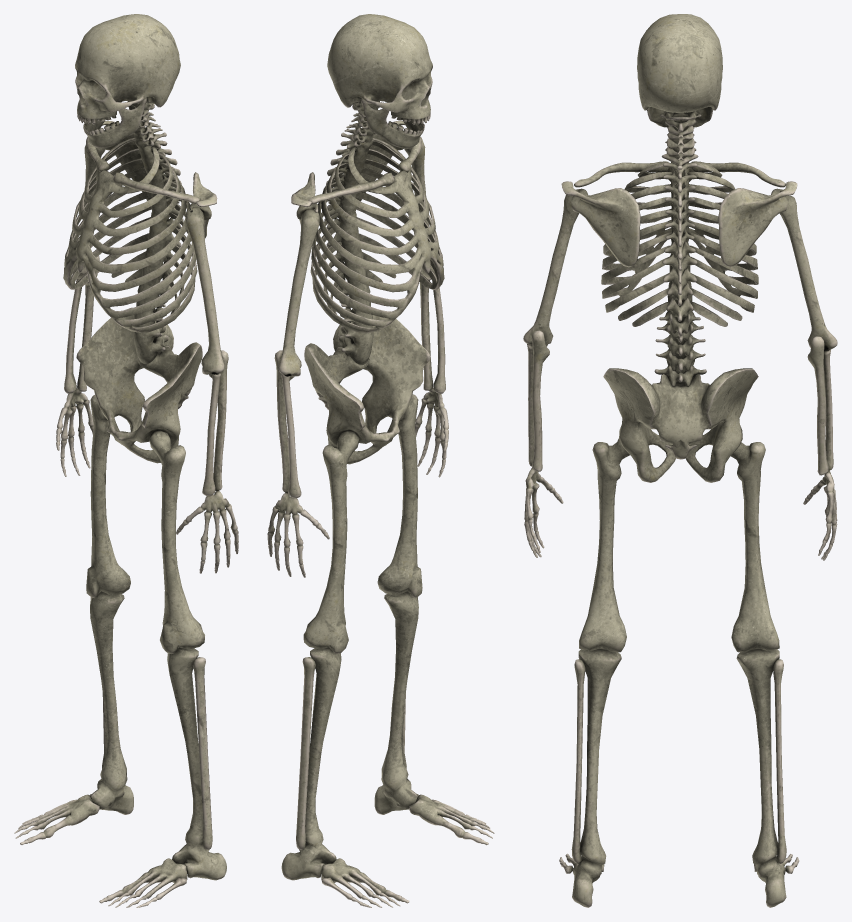
File: SM_Skeleton.fbx
The picture shows the model from 3 angles, left to right: view 1: azimuth 30°, elevation 25°; view 2: azimuth 150°, elevation 25°; view 3: azimuth 270°, elevation 25°; orthographic projection. The views are drawn at different scales.
Visible parts, largest first — view 1: SM_Skeleton_LOD0; view 2: SM_Skeleton_LOD0; view 3: SM_Skeleton_LOD0.
Boxes of the visible parts, left/top/right/bottom form: SM_Skeleton_LOD0: left=14, top=14, right=238, bottom=907; SM_Skeleton_LOD0: left=267, top=14, right=494, bottom=907; SM_Skeleton_LOD0: left=523, top=14, right=837, bottom=907.
Bounding box in the file's own units: 29.39 × 60.06 × 182.
Materials: 1 (1 with a texture image).
